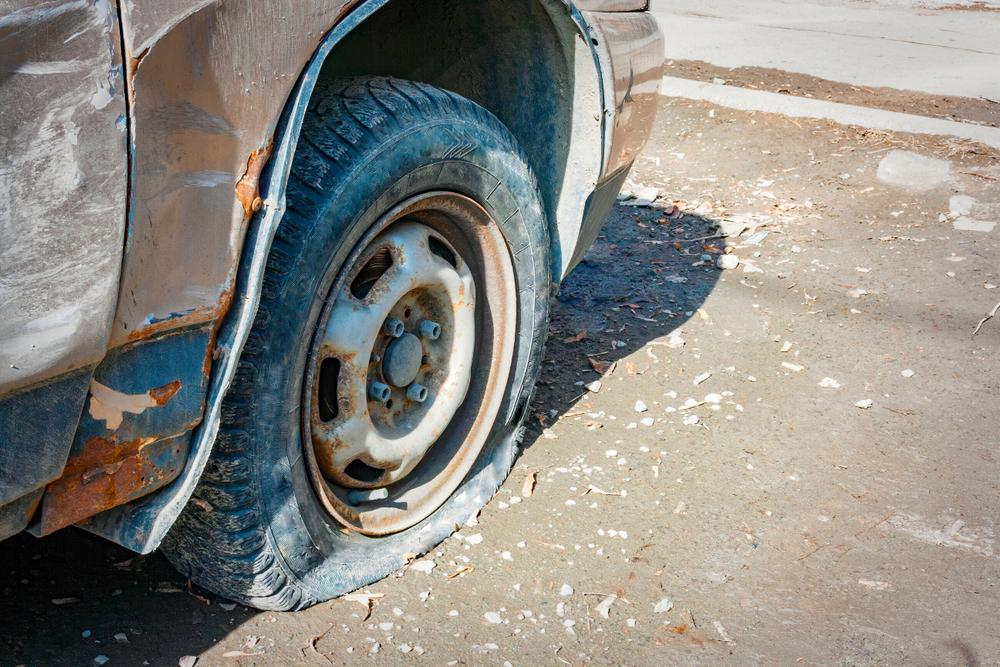tire flat: (164, 72, 549, 610)
